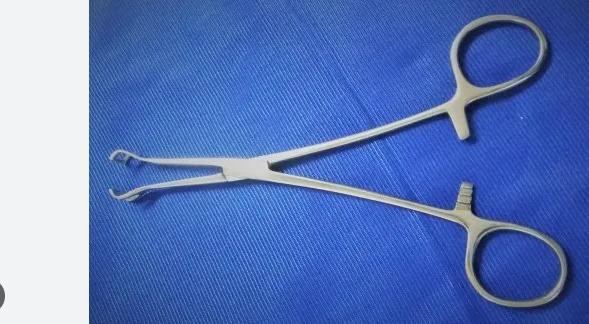Babcock Forceps: (102, 11, 571, 313)
